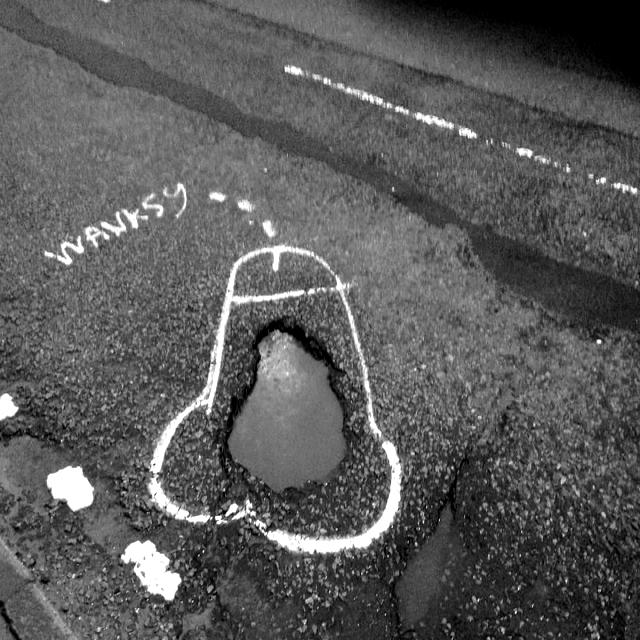pathole: (0, 422, 309, 639), (228, 330, 346, 491), (396, 502, 474, 639)
